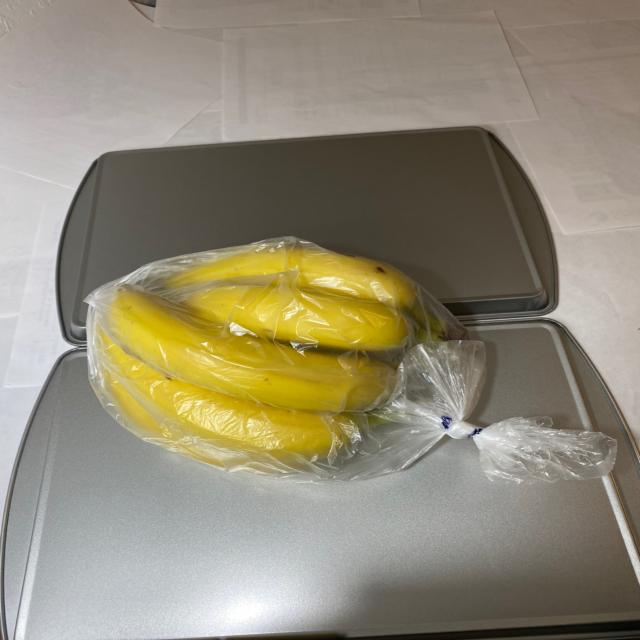banana: (80, 236, 489, 482)
